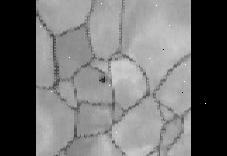good_void: (98, 74, 106, 82)
